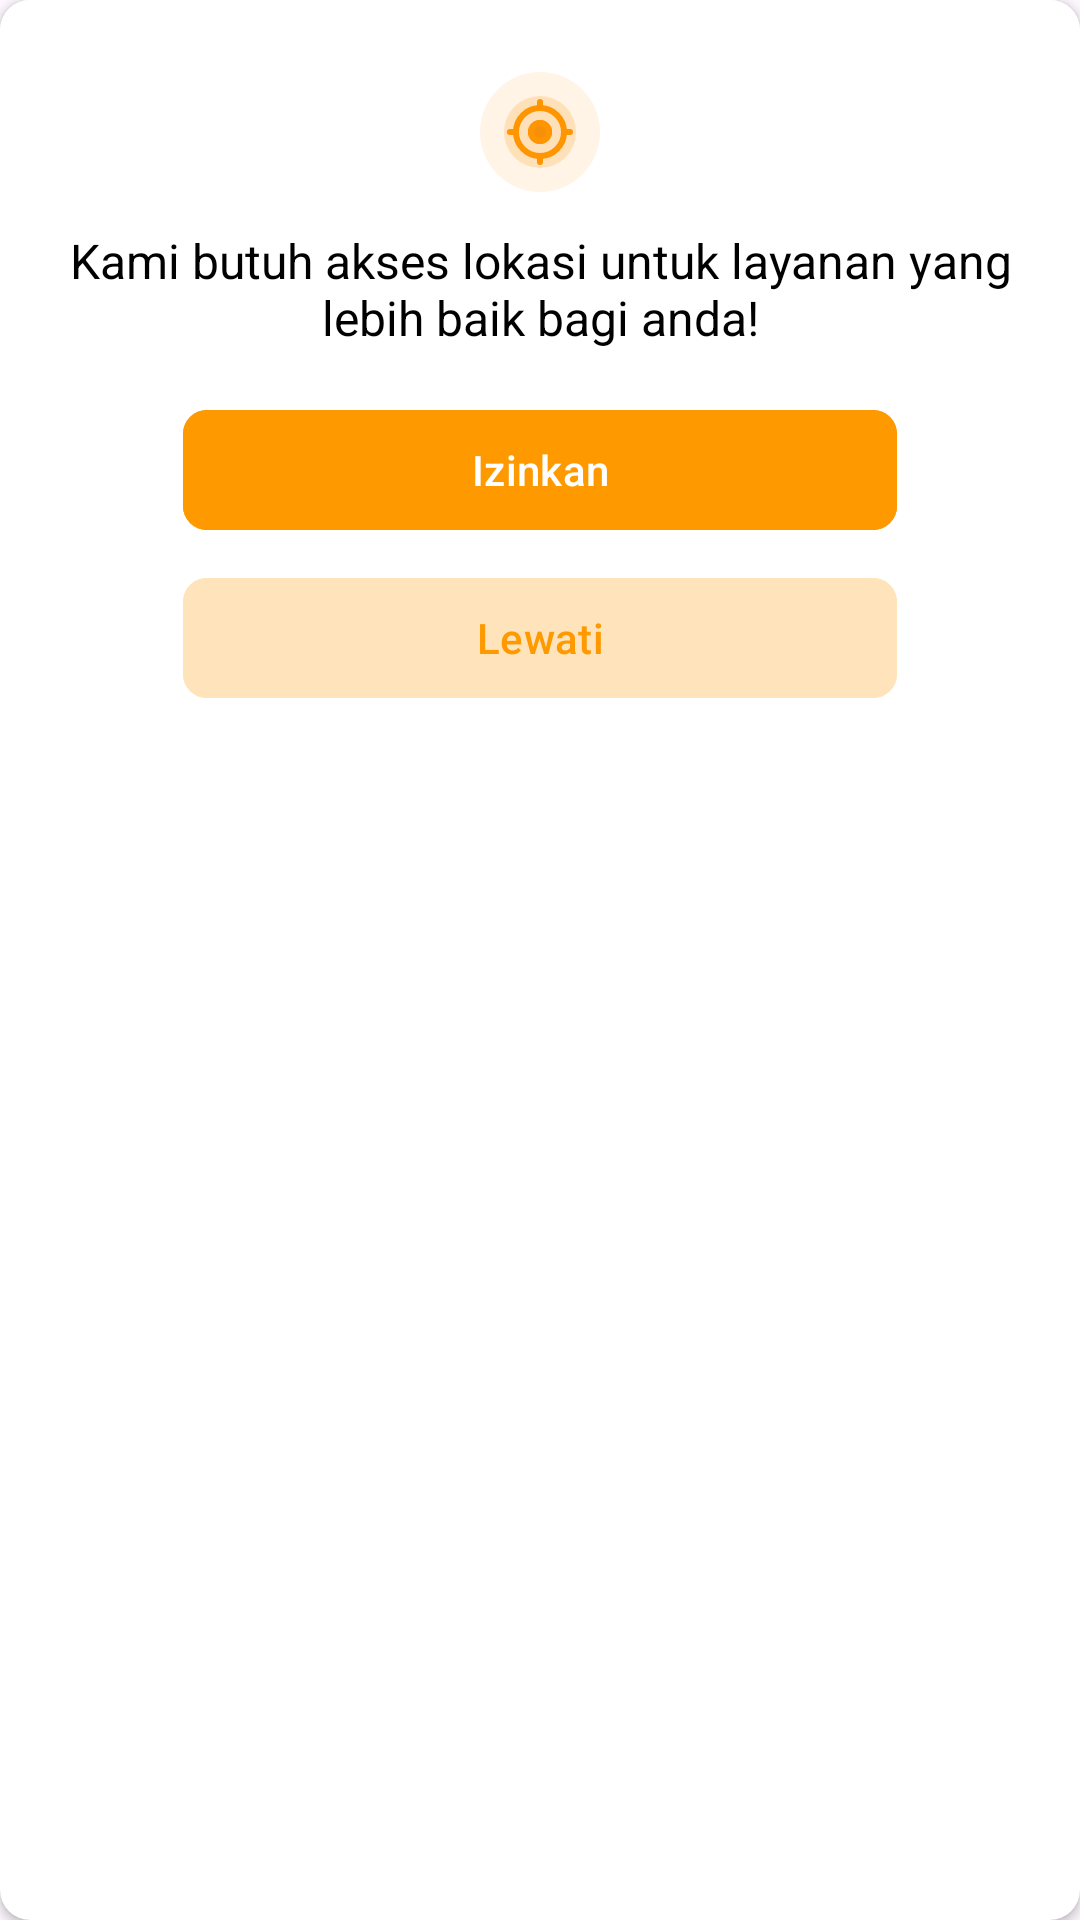

Named icons in this screenshot (1080px x 1920px) and their bounding boxes, (x1, y1, x2, y2):
position: (481, 72, 599, 192)
